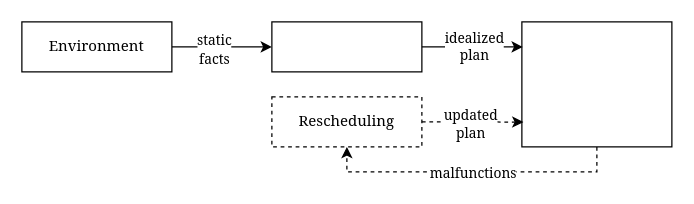
This 694x204 diagram has some shape labels left out. Here are the shapes that lost their labels. From the top down, the centre of each, then its label:
At point (346, 46): "Scheduling".
At point (596, 84): "Simulation".
